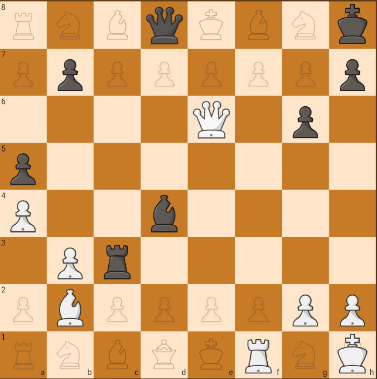bb: (144, 190, 181, 232)
bk: (329, 1, 374, 48)
bp: (190, 98, 232, 142), (52, 53, 93, 97), (285, 98, 325, 143), (4, 144, 41, 188), (338, 50, 370, 96)
bq: (143, 2, 187, 45)
br: (100, 239, 136, 280)
wb: (50, 285, 91, 330)
wk: (332, 335, 373, 378)
wp: (50, 240, 89, 283), (288, 290, 325, 330), (3, 196, 39, 233), (333, 293, 369, 330)
wr: (240, 335, 278, 378)
